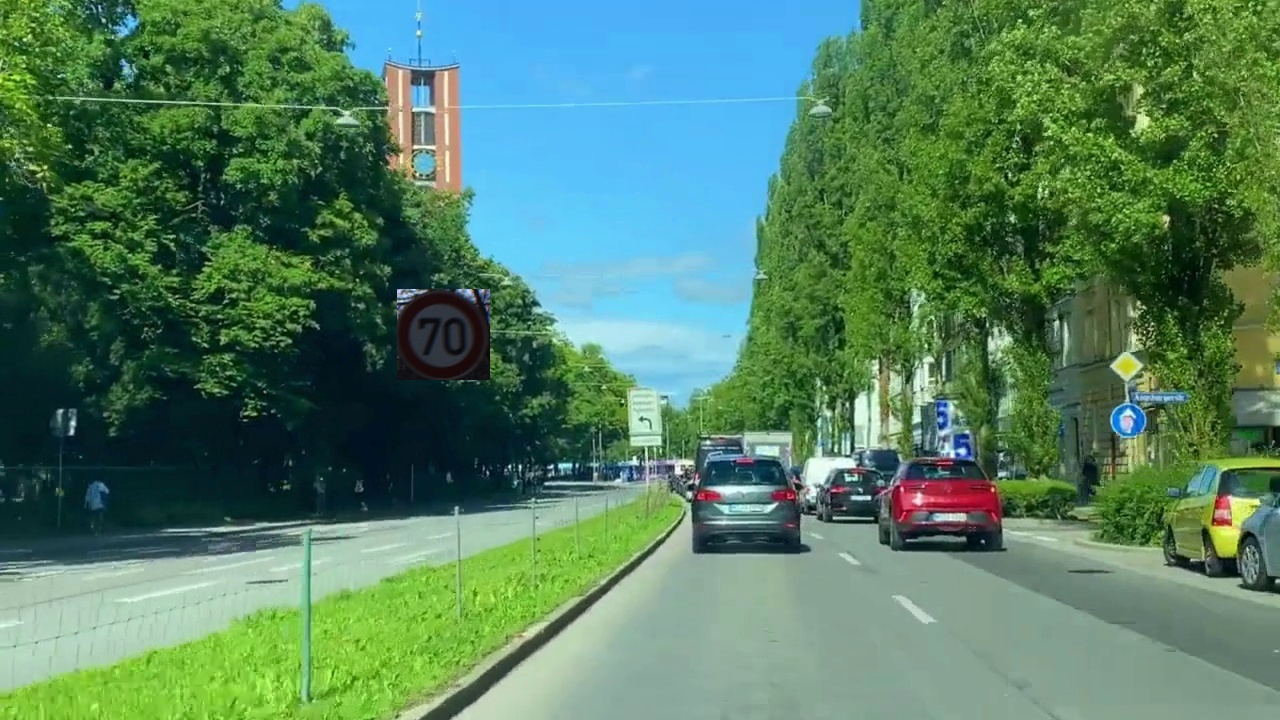Speed 70: (397, 289, 490, 380)
